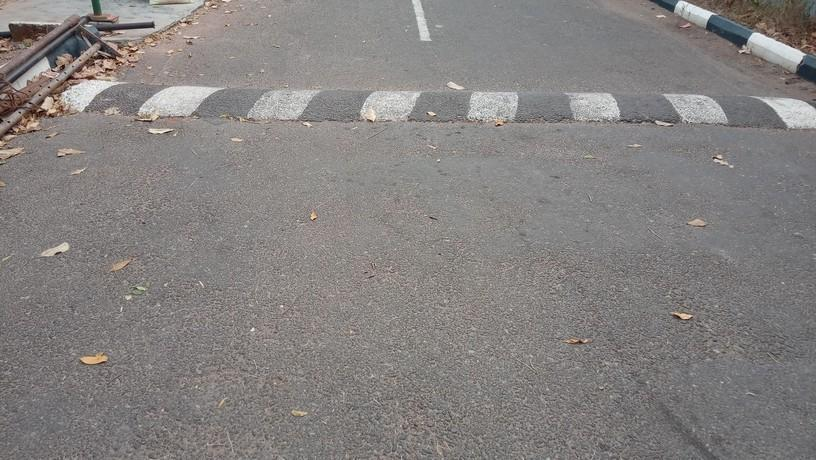speedbreaker: (61, 73, 816, 138)
